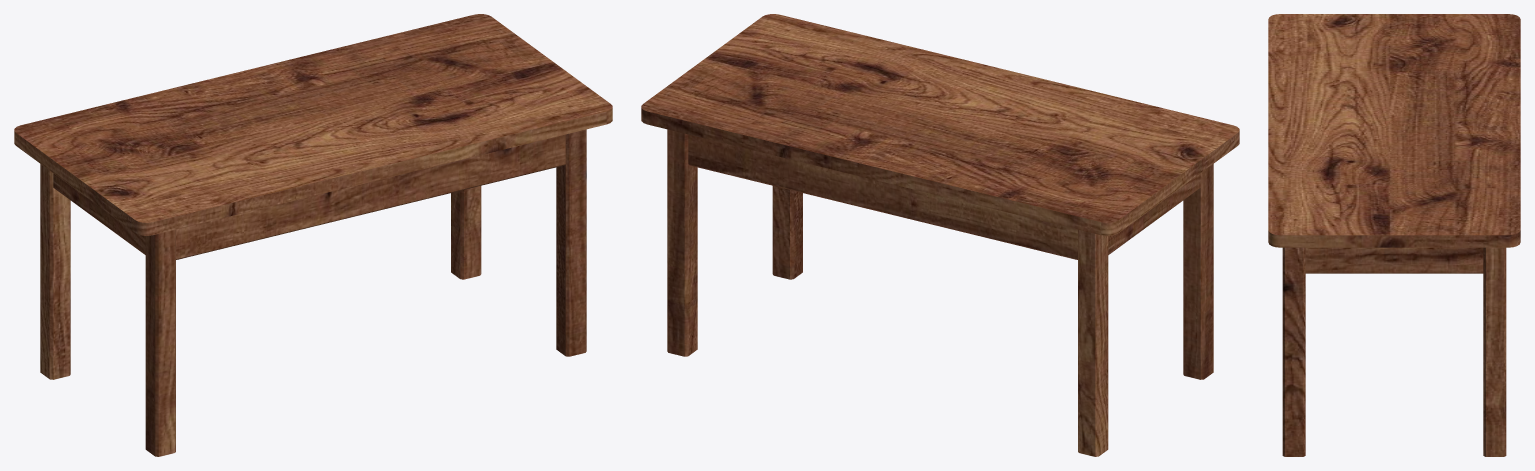
File: colored_reg_table.glb
3 views of the same model, side by side, from view 1: azimuth 30°, elevation 25°; view 2: azimuth 150°, elevation 25°; view 3: azimuth 270°, elevation 25° (orthographic). The views are drawn at different scales.
Visible parts, largest first — view 1: coffee_table_01; view 2: coffee_table_01; view 3: coffee_table_01.
Boxes of the visible parts, x1=… form: coffee_table_01: x1=14, y1=14, x2=612, y2=456; coffee_table_01: x1=641, y1=14, x2=1239, y2=456; coffee_table_01: x1=1268, y1=14, x2=1520, y2=456.
Size of the model in its own units: 3.57 by 1.75 by 1.72.
Materials: 1 (1 with a texture image).
